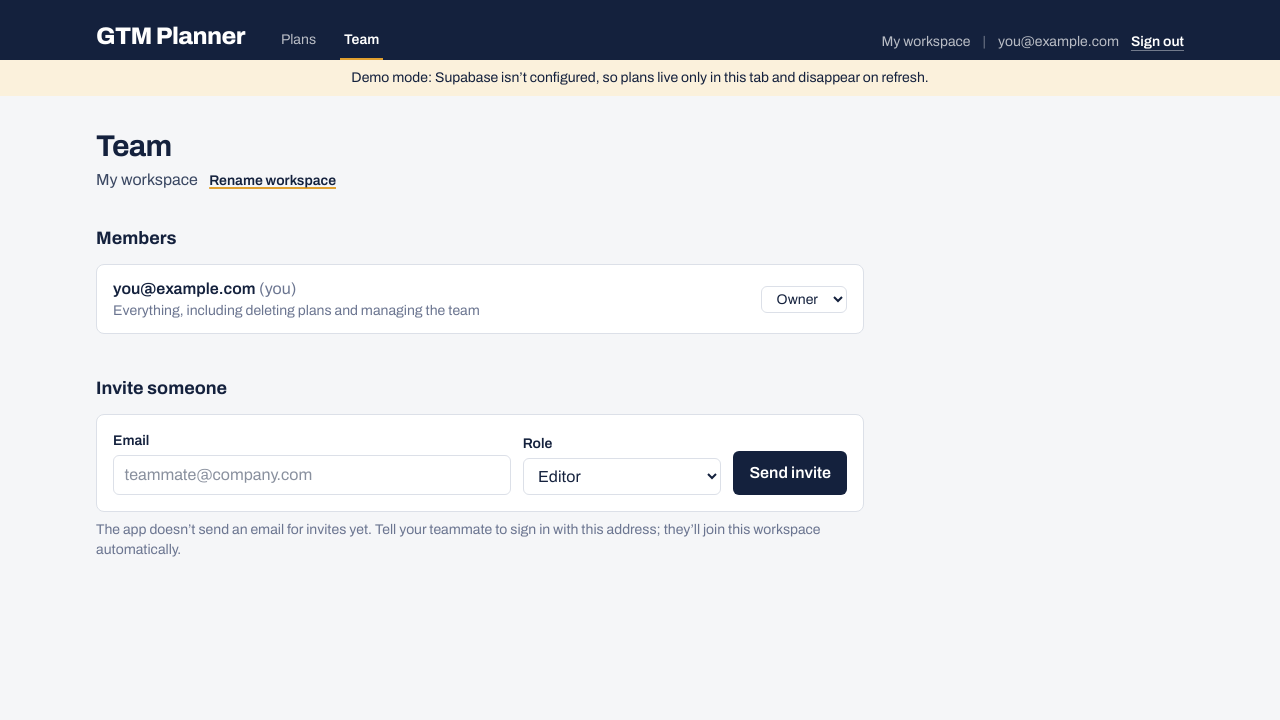
Test: sign-in, plans and team › invites a teammate and keeps the last owner
Expected: the heading "Team" is shown, [96,130,172,162]
Type "noa@example.com" into the field labelled "Email" at point(312, 475), box [113,455,511,495]
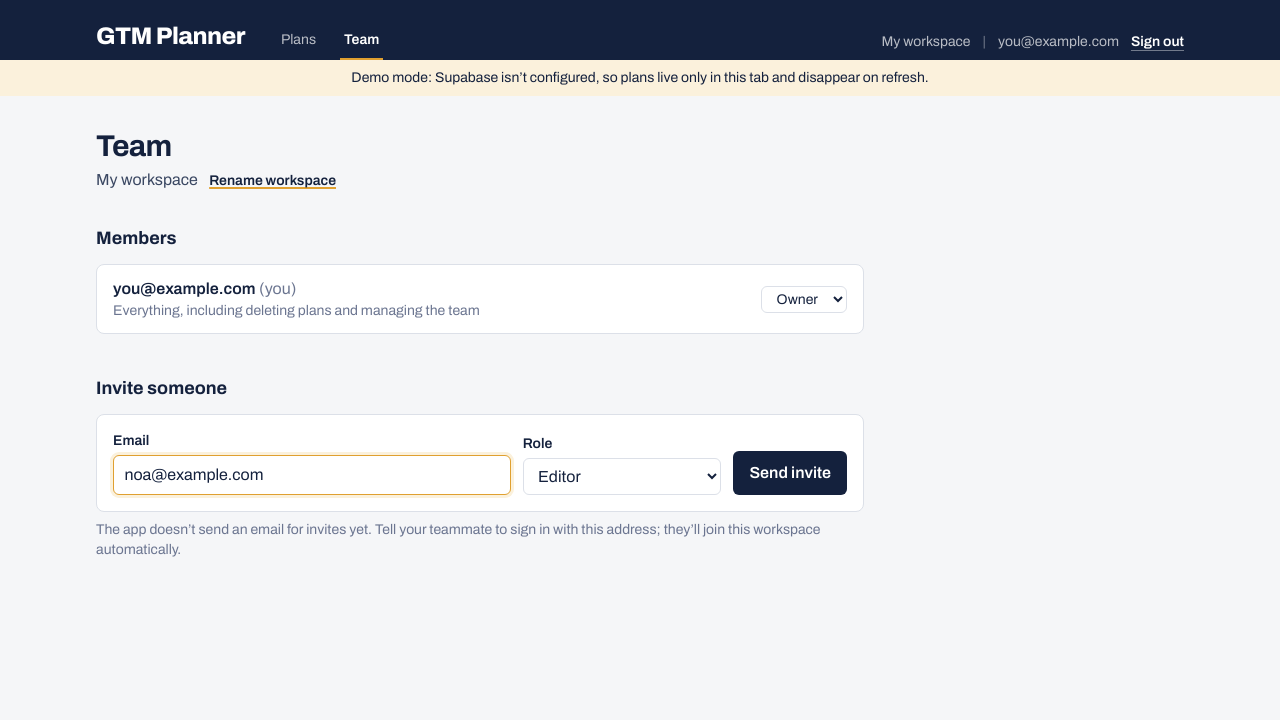
Select "Viewer" in the dropdown labelled "Role" at point(622, 477), box [523,458,721,495]
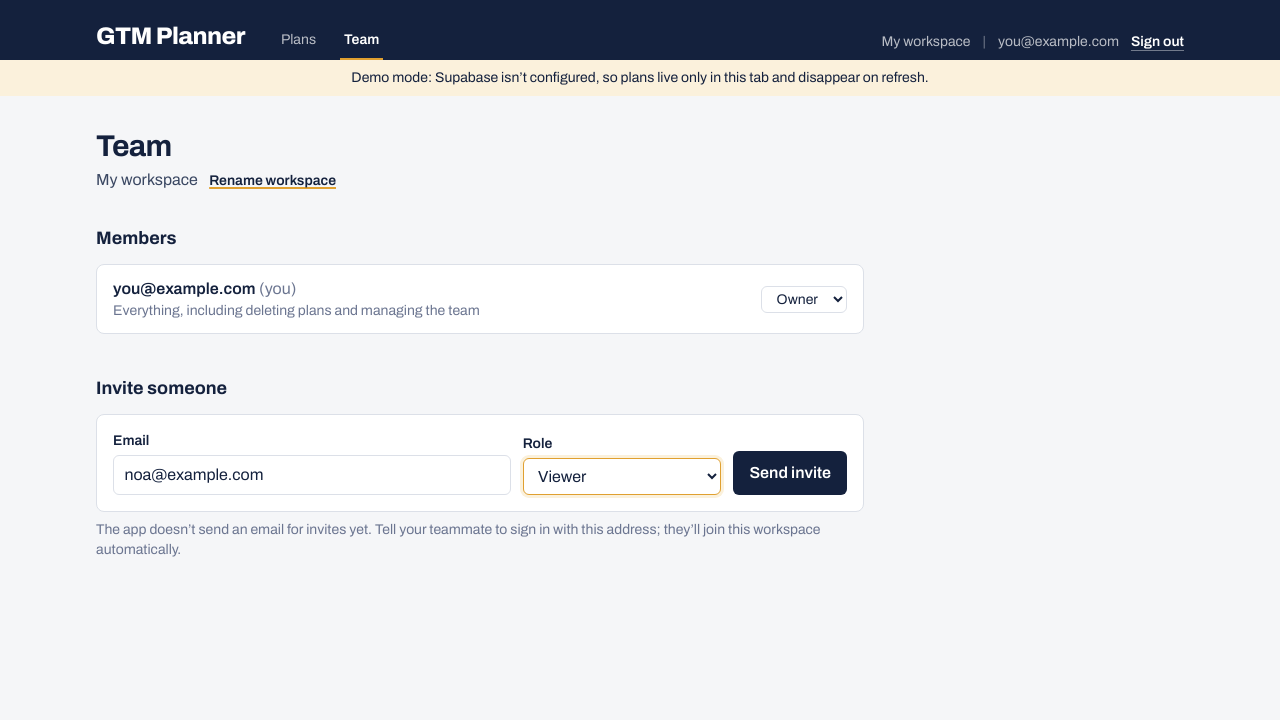
Click the button "Send invite" at point(790, 473), box [733,451,847,495]
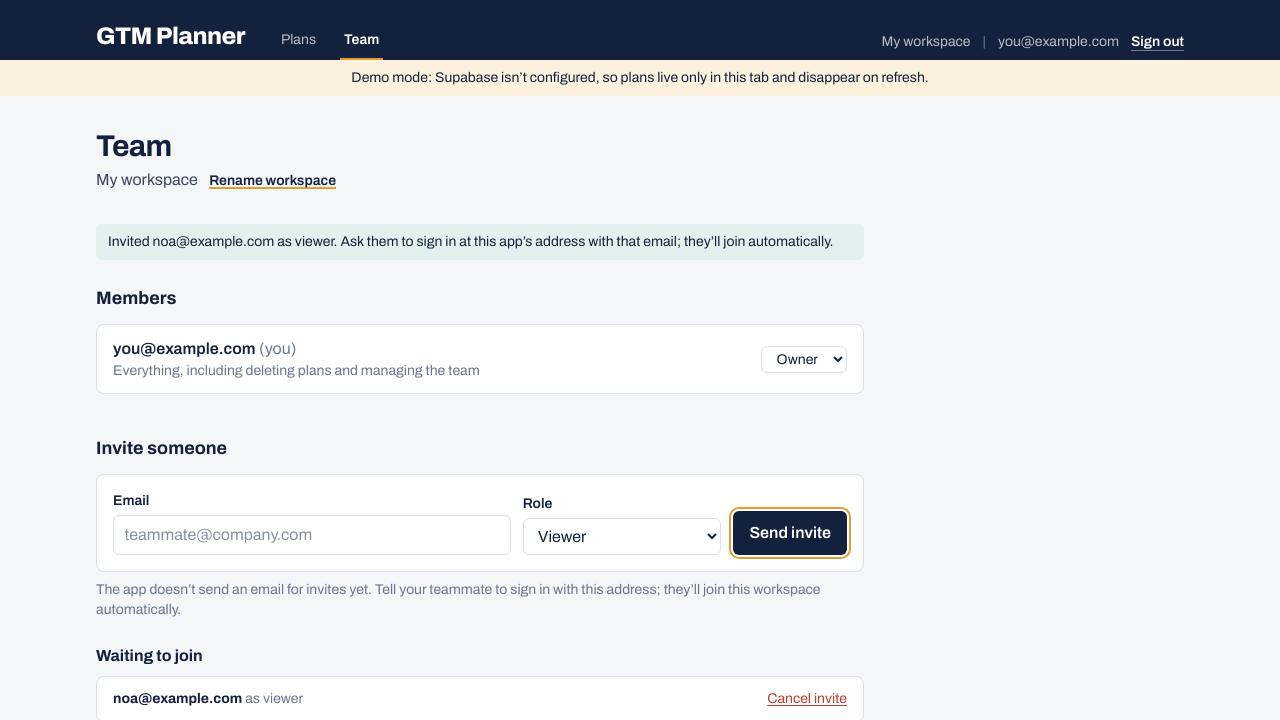
Expected: the text "noa@example.com" is shown, [113,691,242,706]
Expected: the text "Invited noa@example.com as viewer" is shown, [108,234,833,249]
Select "Editor" in the dropdown named "Role for you@example.com" at point(804, 359), box [761,346,847,372]
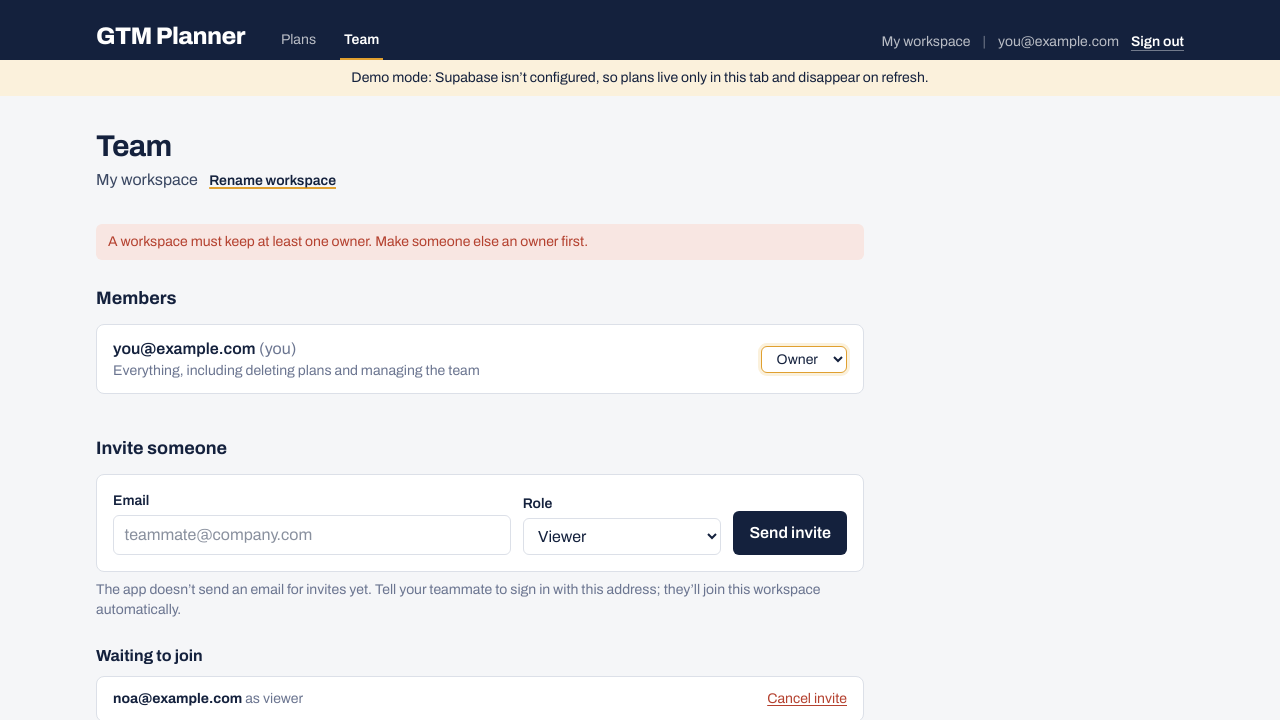
Expected: the text "A workspace must keep at least one owner. Make someone else an owner first." is shown, [96,224,864,260]
